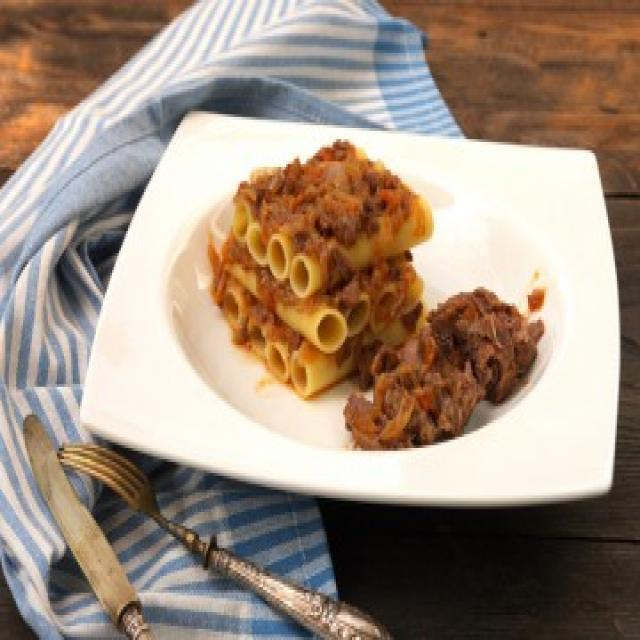Pasta al ragu: (185, 103, 567, 467)
